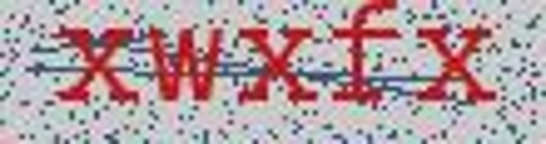f: (331, 2, 407, 123)
w: (146, 18, 226, 111)
x: (409, 18, 504, 122), (50, 18, 142, 122), (231, 18, 320, 116)
